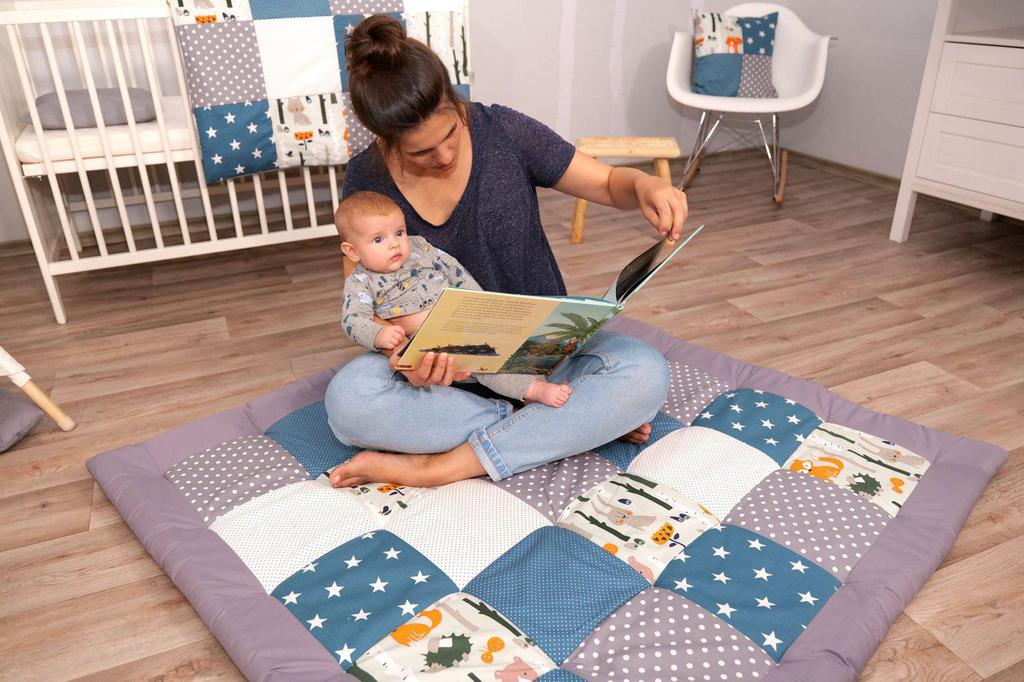child: (316, 189, 605, 408)
